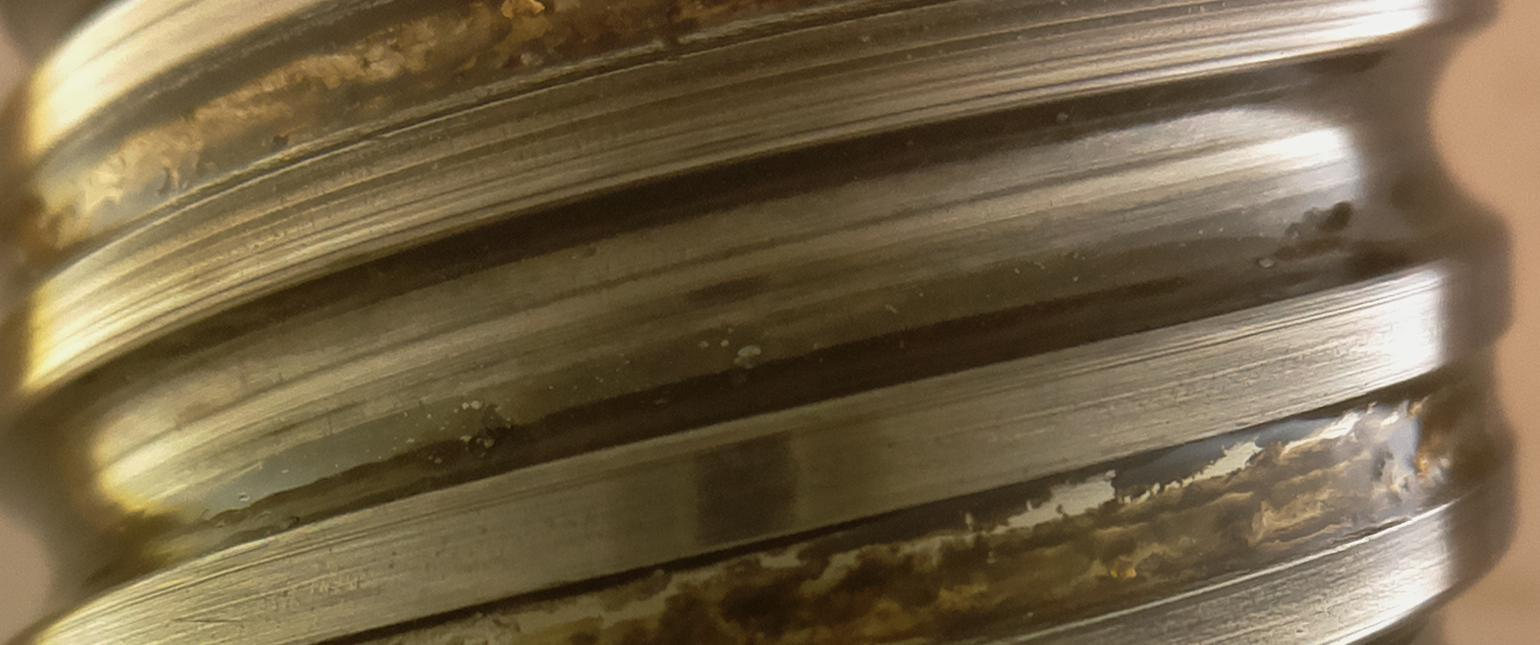pitting: (465, 403, 516, 462)
